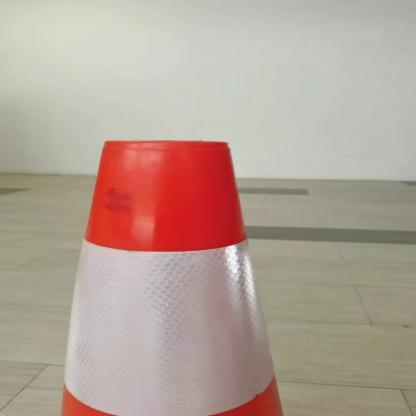cone: (58, 130, 294, 415)
